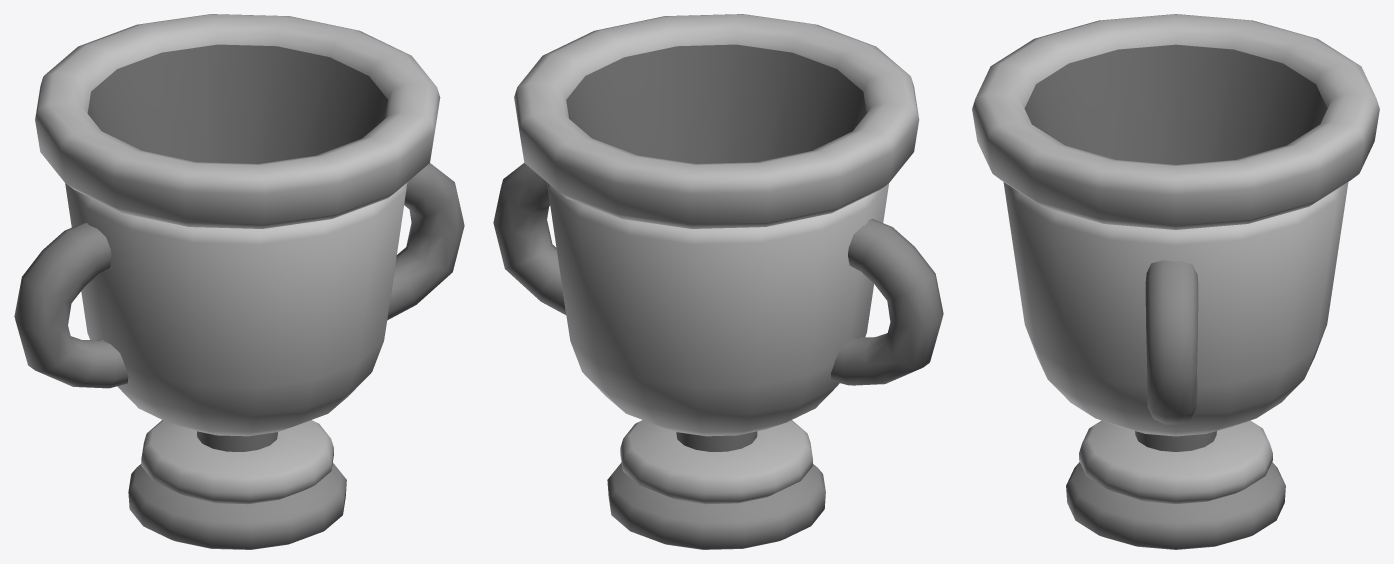
The model's file is Trophy_V1_0.fbx.
3 renders of one model, left to right at view 1: azimuth 30°, elevation 25°; view 2: azimuth 150°, elevation 25°; view 3: azimuth 270°, elevation 25°, orthographic.
Visible parts, largest first — view 1: Trophy_V1_0; view 2: Trophy_V1_0; view 3: Trophy_V1_0.
Part boxes in pixels (x1,y1,x2,y2): Trophy_V1_0: [14, 14, 464, 549]; Trophy_V1_0: [493, 14, 943, 549]; Trophy_V1_0: [972, 14, 1379, 549].
Size of the model in its own units: 0.4706 by 0.4225 by 0.3783.
